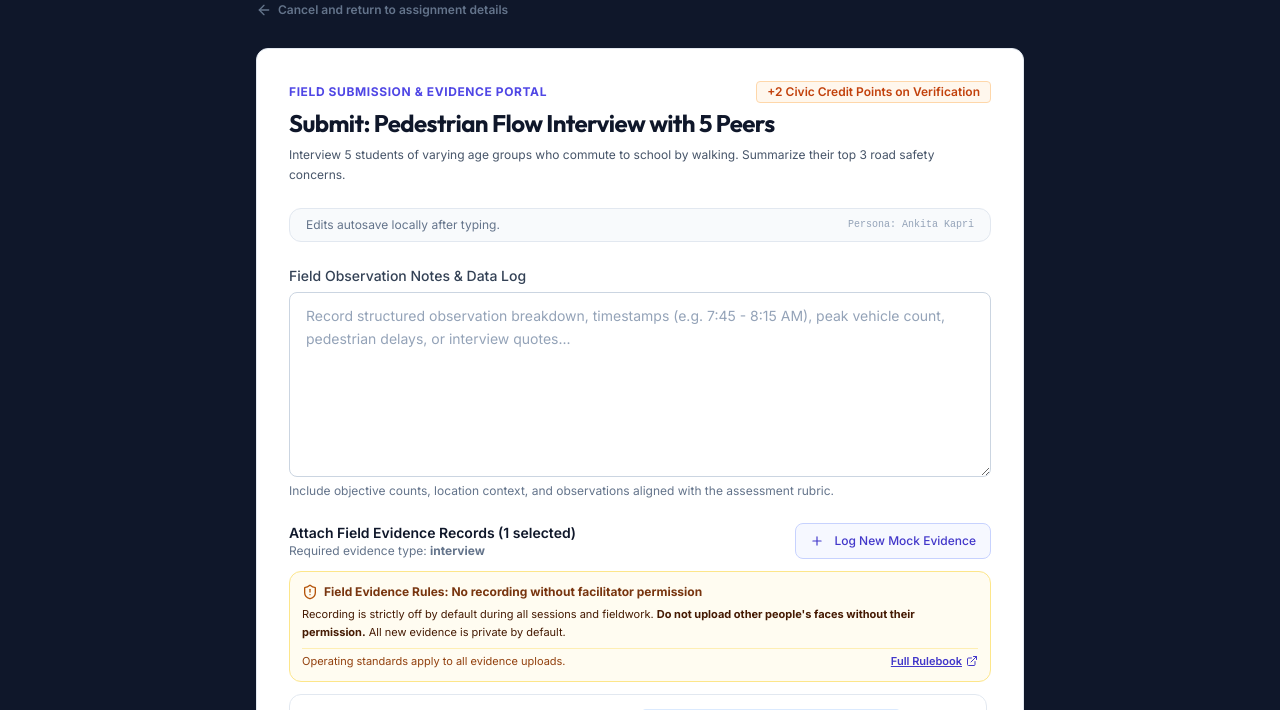
Test: Review Additions 3 and V2 Evidence Rules › 6. Point of Use UI (SubmitAssignmentPage) › modal displays concise consent warning next to file picker with allowed types and 250KB limit
The image size is (1280, 710).
Open Add Evidence modal
Click the button "Log New Mock Evidence": [893, 541] box [795, 523, 991, 559]
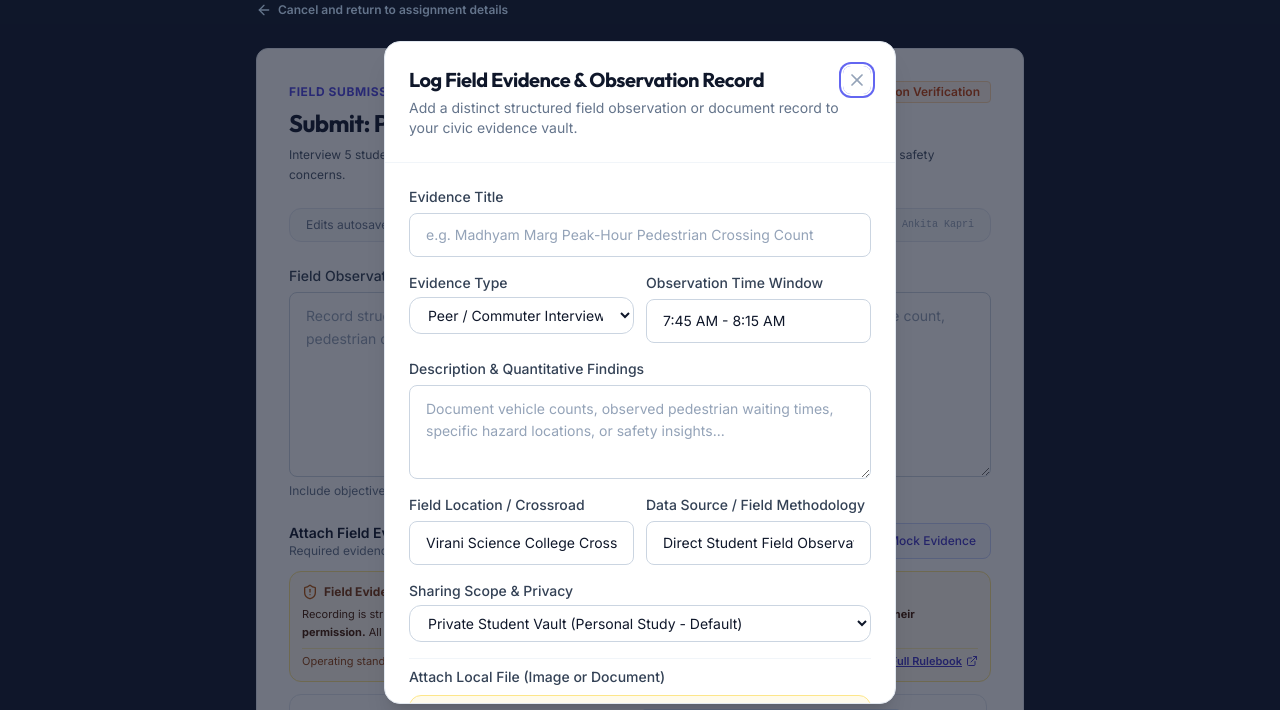
Result: the heading "Log Field Evidence & Observation Record" is shown at [409, 66, 764, 92]
Result: the dropdown labelled "Sharing Scope & Privacy" shows "Private Student Vault (Personal Study - Default)" at [409, 605, 871, 642]
